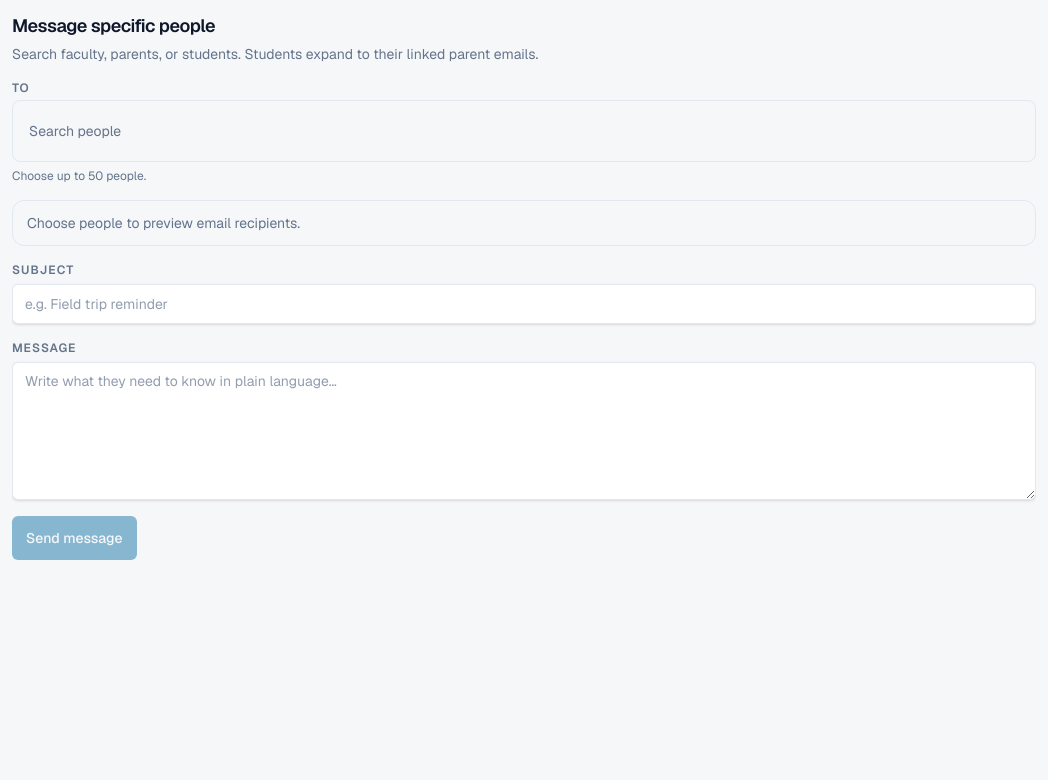
Test: PeopleMessageForm › keeps delivered drafts for log-only and bookkeeping-note outcomes
The width and height of the screenshot is (1048, 780).
Type "Av" into the dropdown labelled "To" at (524, 131), box [21, 109, 1027, 153]
Wait 250 ms
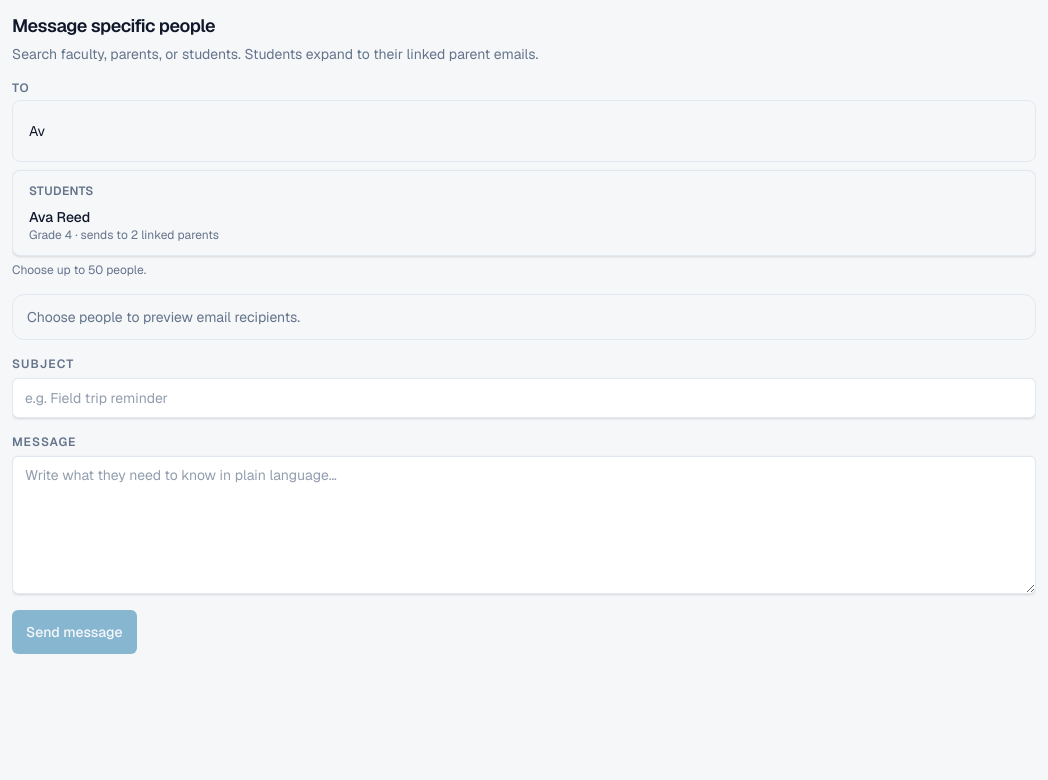
Press Arrowdown Enter
Wait 150 ms
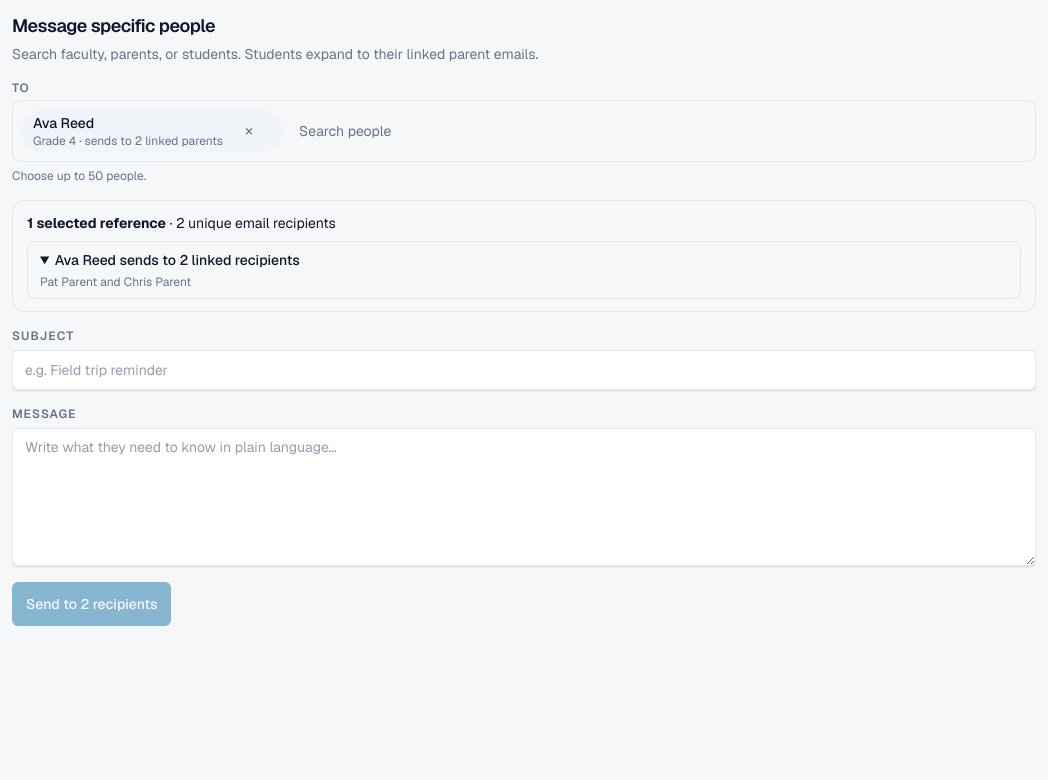
Now the text "2 unique email recipients" is shown, box [176, 214, 336, 232]
Type "Field trip reminder" into the field labelled "Subject" at (524, 370), box [12, 350, 1036, 390]
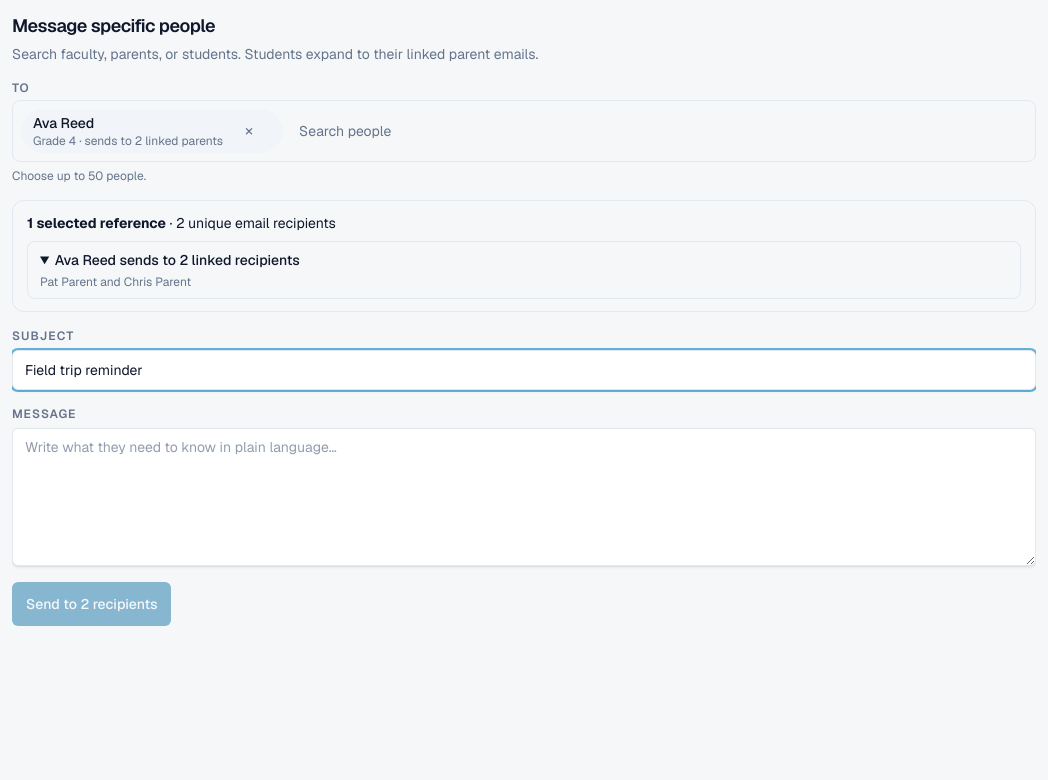
Type "Please return the form Friday." into the text box labelled "Message" at (524, 497), box [12, 428, 1036, 566]
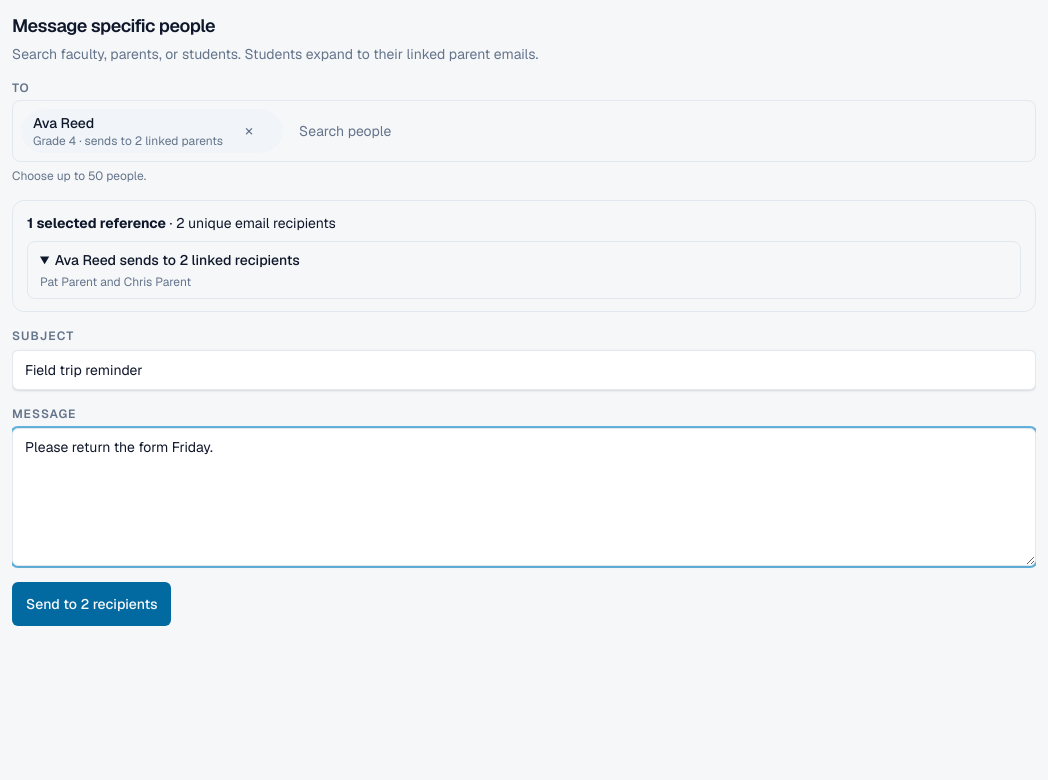
Click the button "Send to 2 recipients" at (92, 604), box [12, 582, 172, 626]
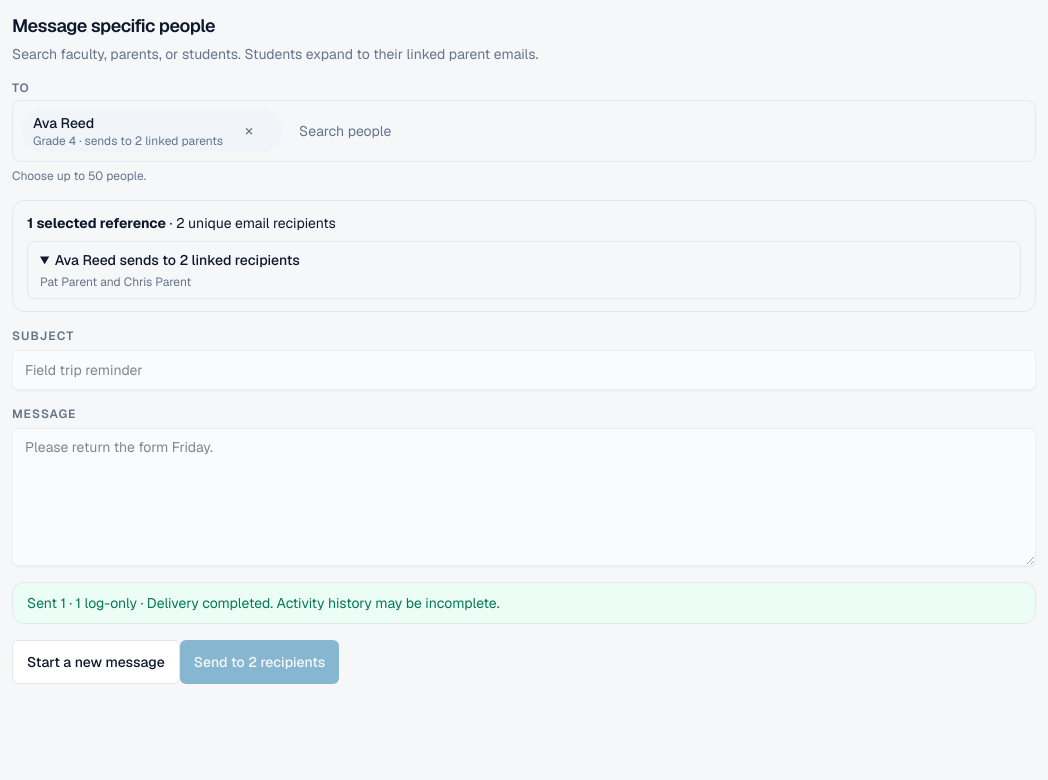
Now the button "Send to 2 recipients" is disabled, box [180, 640, 339, 684]
